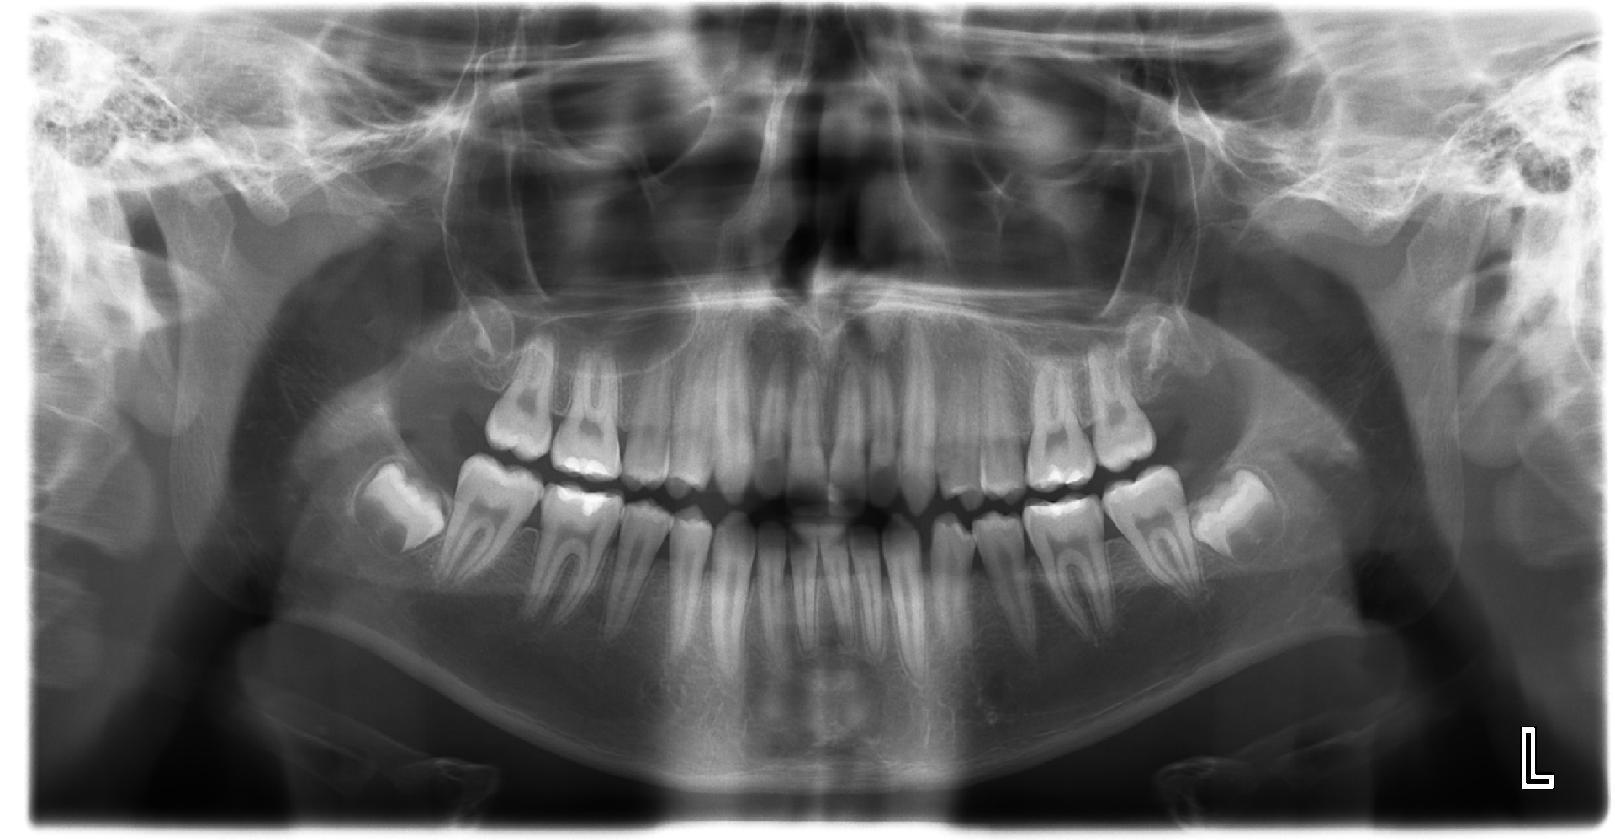Mesio-angular: (344, 444, 457, 572), (1189, 462, 1297, 572)
